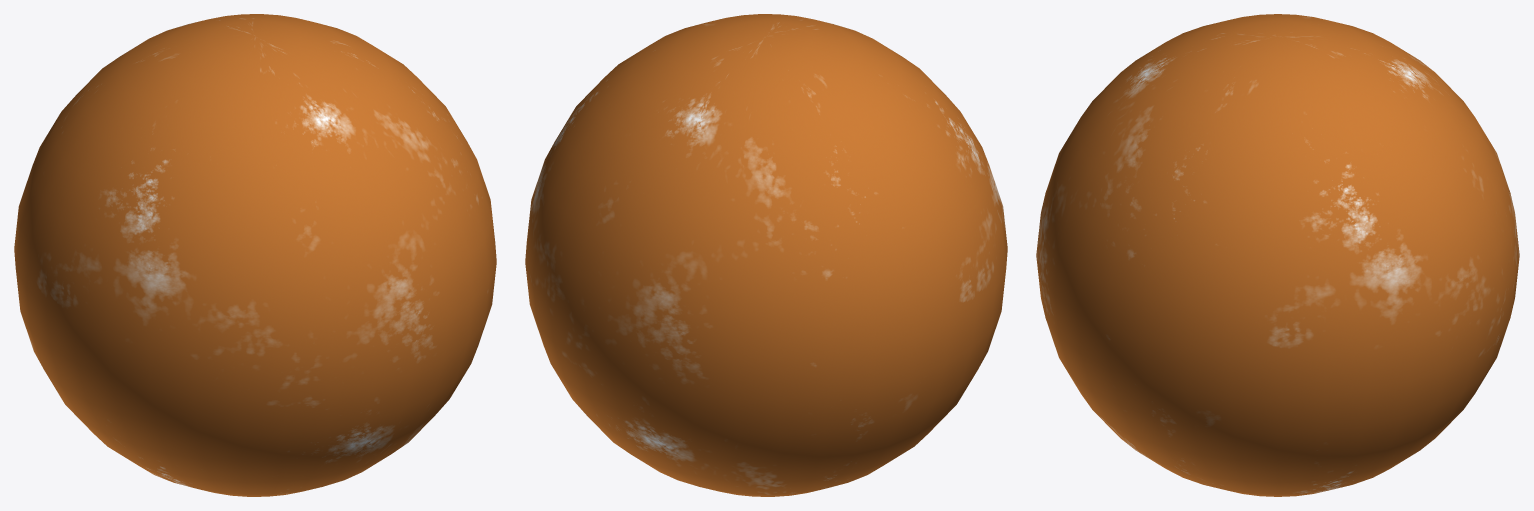
File: Arena.gltf
3 views of the same model, side by side, from view 1: azimuth 30°, elevation 25°; view 2: azimuth 150°, elevation 25°; view 3: azimuth 270°, elevation 25° (orthographic).
Visible parts, largest first — view 1: sky; view 2: sky; view 3: sky.
Part boxes in pixels (x1,y1,x2,y2): sky: (14,14,496,496); sky: (525,14,1007,496); sky: (1036,14,1519,496).
Bounding box in the file's own units: 231 × 231 × 231.
2 materials, 2 textured.
